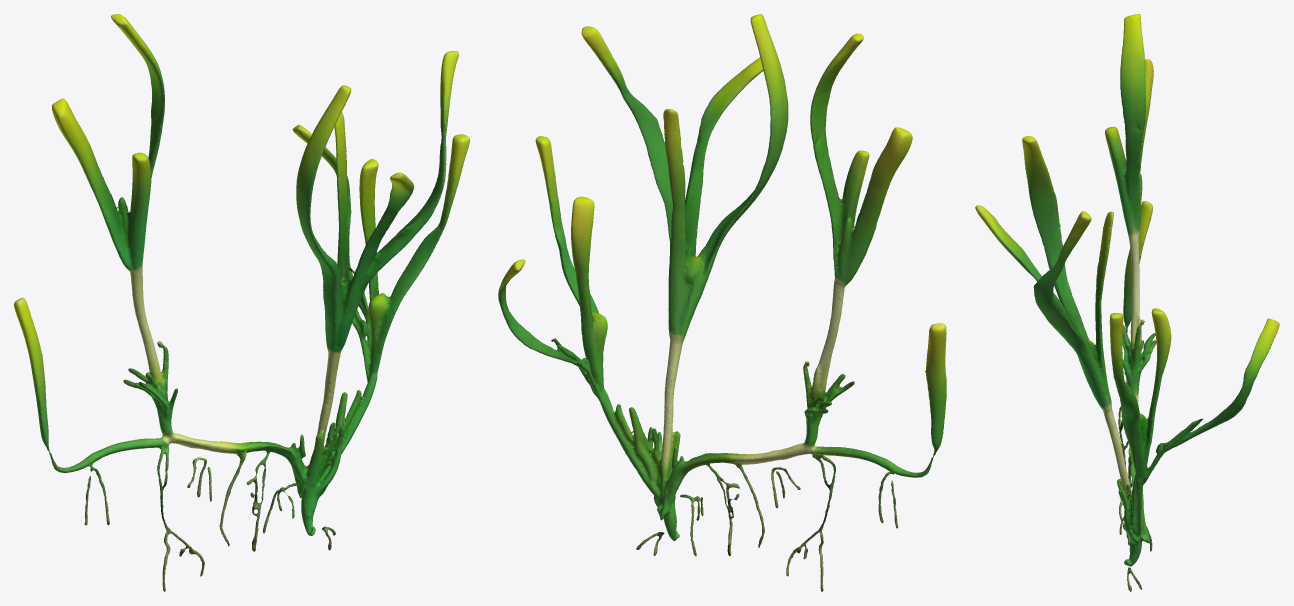
Rendered from cymodocea_rotundata.glb.
The picture shows the model from 3 angles, left to right: view 1: azimuth 30°, elevation 25°; view 2: azimuth 150°, elevation 25°; view 3: azimuth 270°, elevation 25°; orthographic projection. The views are drawn at different scales.
Parts seen in each view (by area): view 1: mesh_0; view 2: mesh_0; view 3: mesh_0.
Boxes of the visible parts, x1=… form: mesh_0: x1=14, y1=14, x2=469, y2=591; mesh_0: x1=498, y1=14, x2=946, y2=591; mesh_0: x1=975, y1=14, x2=1279, y2=591.
Bounding box in the file's own units: 1.56 × 2 × 1.12.
1 material, 1 textured.
